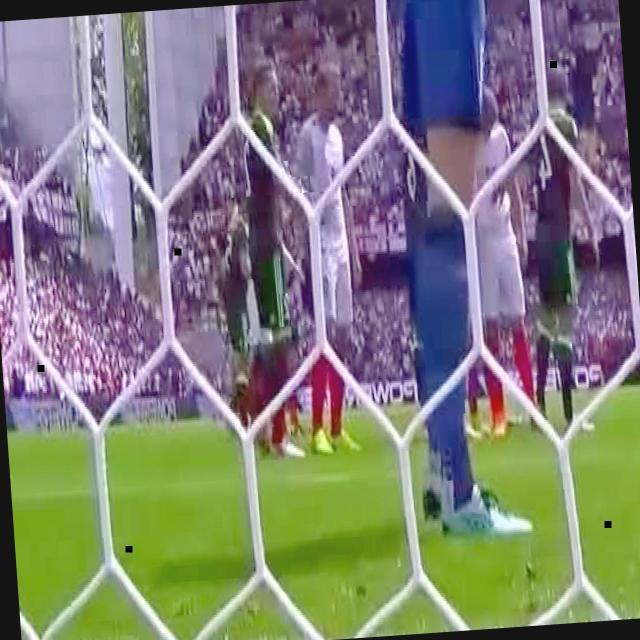player-white: (388, 0, 614, 544), (509, 63, 614, 437), (283, 62, 375, 450), (220, 57, 306, 463), (461, 81, 541, 435)
